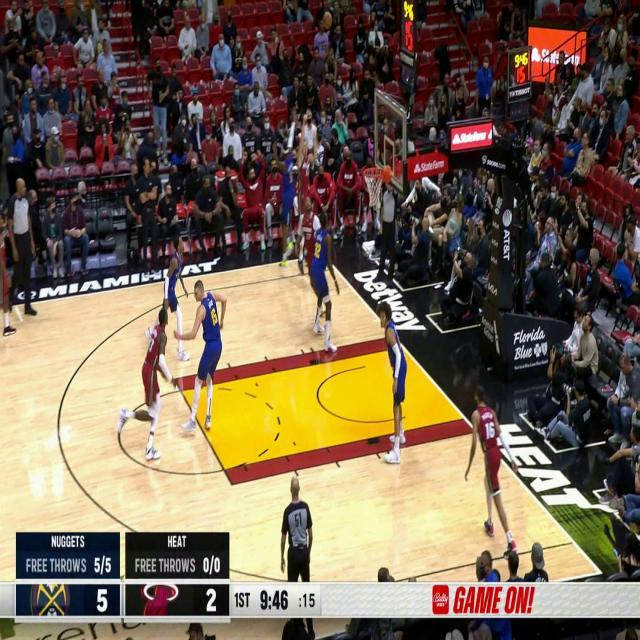rim: (322, 11, 332, 30)
